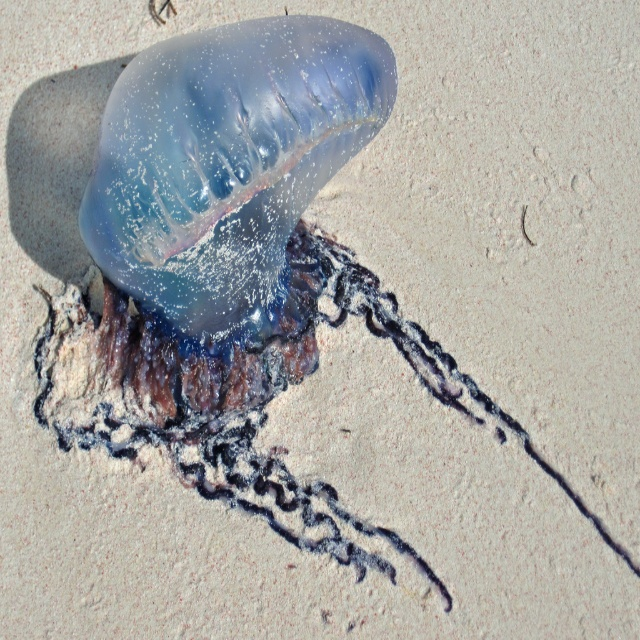Jellyfish: (65, 7, 406, 372)
